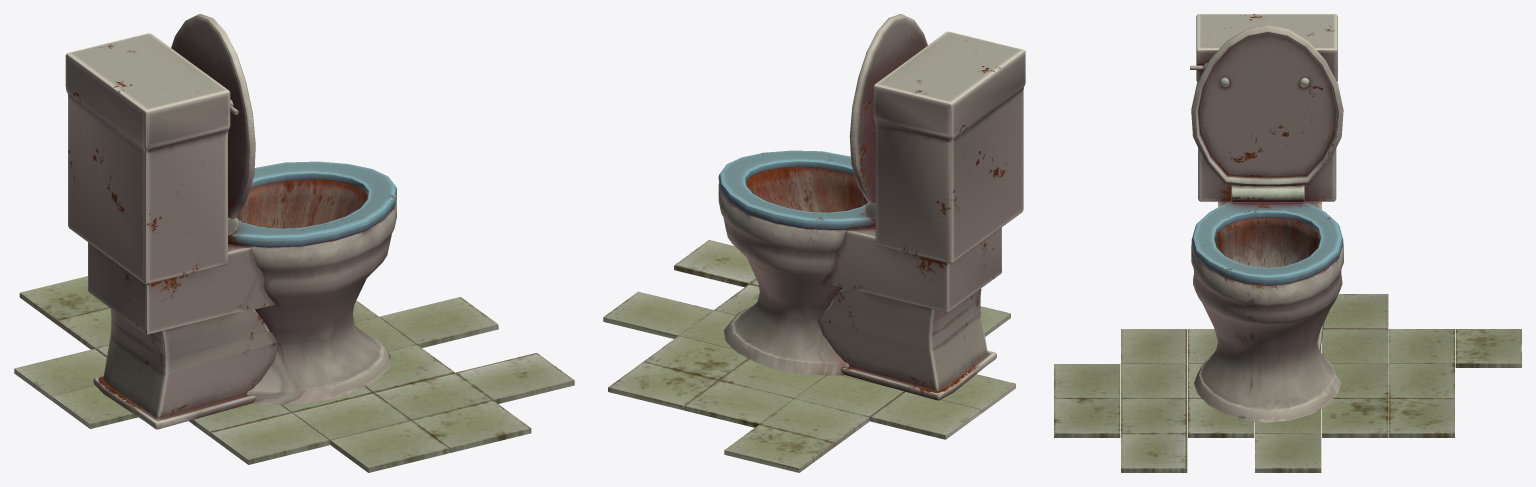
The picture shows the model from 3 angles, left to right: view 1: azimuth 30°, elevation 25°; view 2: azimuth 150°, elevation 25°; view 3: azimuth 270°, elevation 25°; orthographic projection. The views are drawn at different scales.
Visible parts, largest first — view 1: defaultMaterial; view 2: defaultMaterial; view 3: defaultMaterial.
Part boxes in pixels (box(x1,y1,x2,y2)): defaultMaterial: box(14, 14, 574, 472); defaultMaterial: box(603, 14, 1025, 472); defaultMaterial: box(1054, 14, 1521, 472).
Size of the model in its own units: 0.3798 by 0.3327 by 0.43.
1 material, 1 textured.
